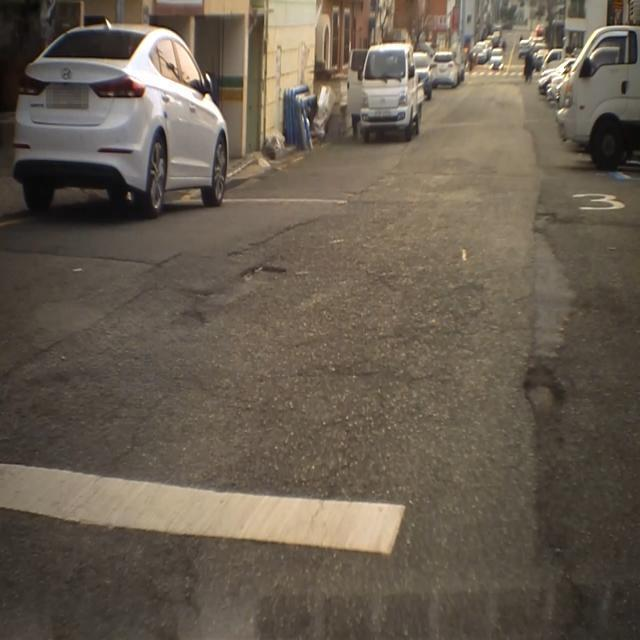pothole: (519, 366, 569, 426), (167, 276, 215, 337), (244, 261, 292, 286)
